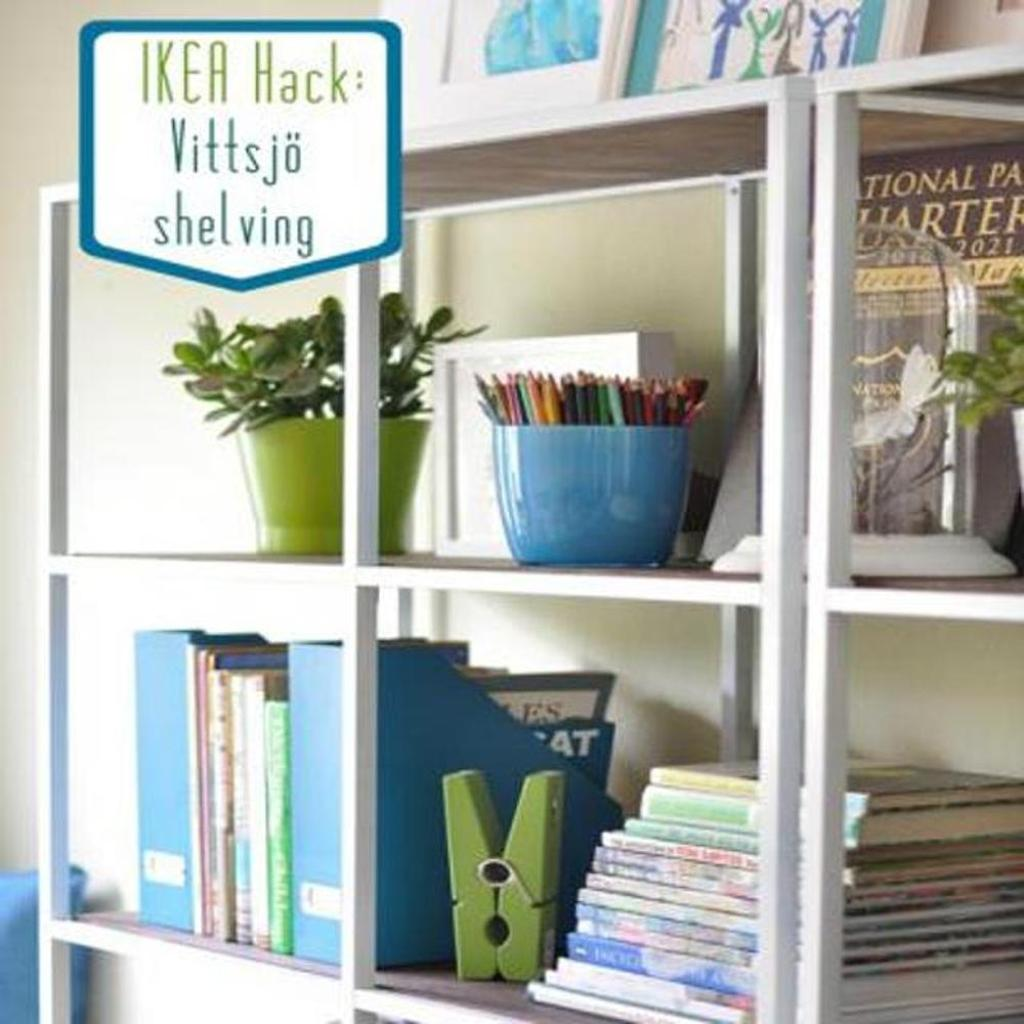lamp: (34, 71, 815, 1022)
